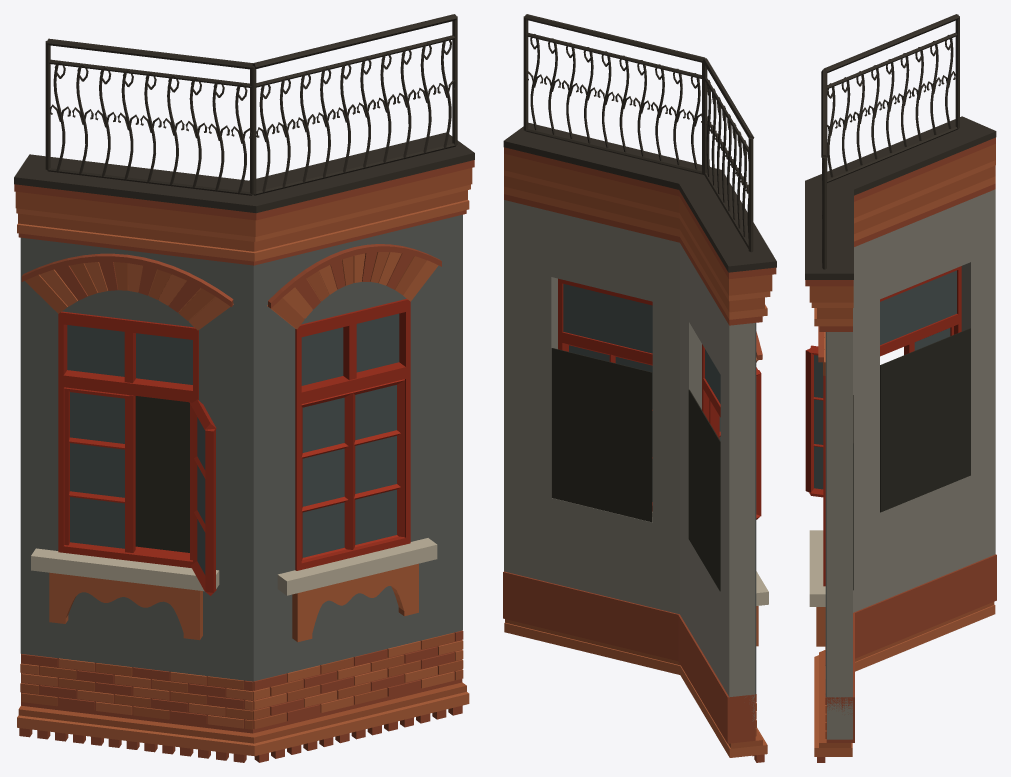
The model's file is hongkou-shanyin-229-canted-bay-lod.glb.
3 renders of one model, left to right at view 1: azimuth 30°, elevation 25°; view 2: azimuth 150°, elevation 25°; view 3: azimuth 270°, elevation 25°, orthographic. The views are drawn at different scales.
Parts seen in each view (by area): view 1: 山阴路229弄1号花砖凸窗与曲线铁栏; view 2: 山阴路229弄1号花砖凸窗与曲线铁栏; view 3: 山阴路229弄1号花砖凸窗与曲线铁栏.
Part boxes in pixels (box(x1,y1,x2,y2)): 山阴路229弄1号花砖凸窗与曲线铁栏: box(14, 14, 474, 762); 山阴路229弄1号花砖凸窗与曲线铁栏: box(503, 14, 776, 762); 山阴路229弄1号花砖凸窗与曲线铁栏: box(805, 14, 996, 762).
Size of the model in its own units: 2.65 by 4.76 by 1.37.
